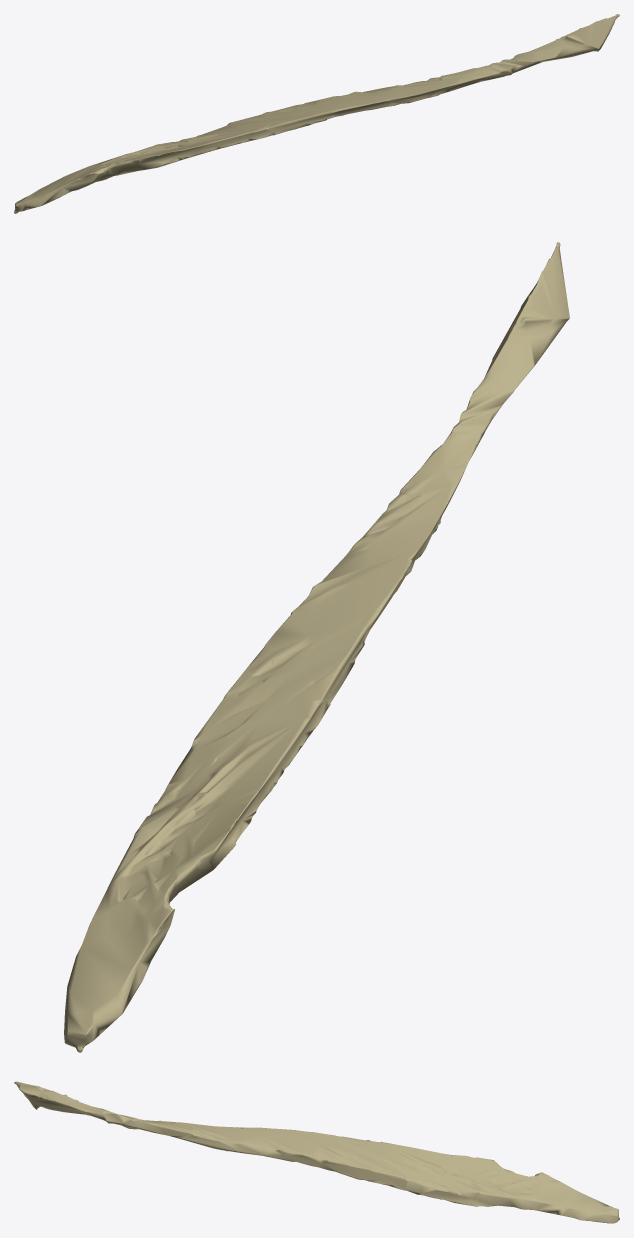
3 views of the same model, one above another, from view 1: azimuth 90°, elevation 25°; view 2: azimuth 150°, elevation 25°; view 3: azimuth 270°, elevation 25° (orthographic). The views are drawn at different scales.
Parts seen in each view (by area): view 1: 右侧前臂骨间膜; view 2: 右侧前臂骨间膜; view 3: 右侧前臂骨间膜.
Part boxes in pixels (x1=…): 右侧前臂骨间膜: x1=14, y1=14, x2=619, y2=213; 右侧前臂骨间膜: x1=64, y1=242, x2=569, y2=1052; 右侧前臂骨间膜: x1=14, y1=1081, x2=619, y2=1223.
Size of the model in its own units: 0.0331 by 0.0733 by 0.2379.
